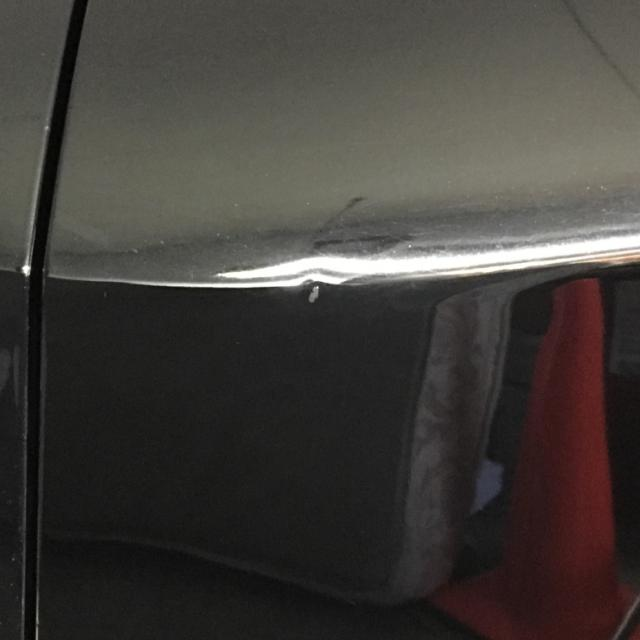dents: (300, 269, 366, 347)
